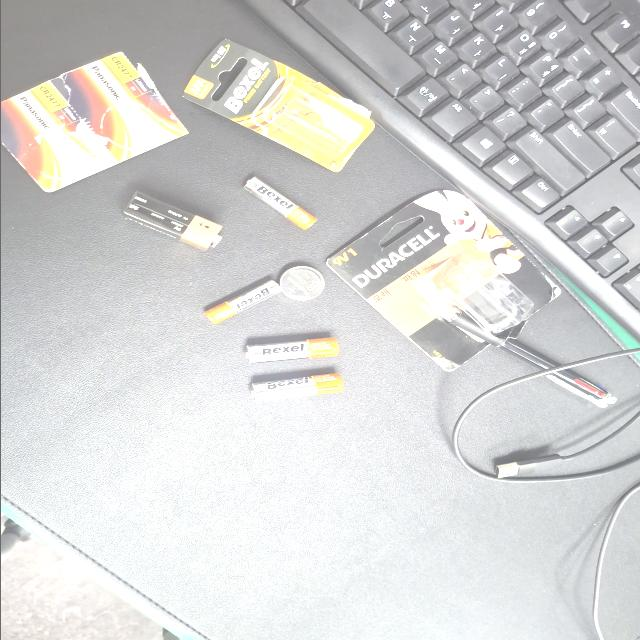9V: (42, 314, 120, 388)
AA: (284, 224, 322, 292), (237, 226, 271, 296)
AAA: (23, 244, 93, 298), (160, 270, 218, 328)
COIN: (142, 237, 188, 271)
